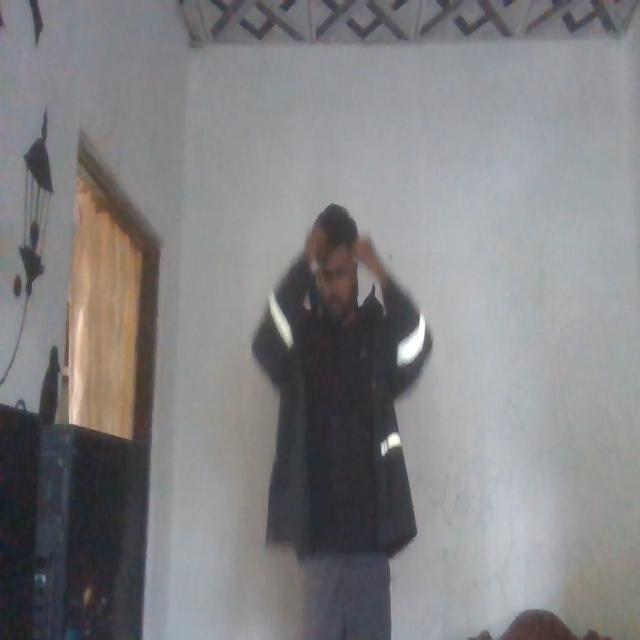Jacket_Wearer: (249, 269, 427, 571)
Person: (256, 197, 427, 640)
